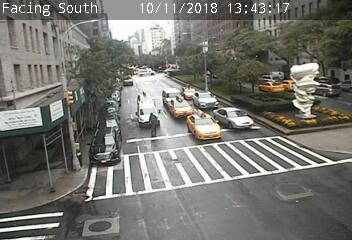car: (89, 127, 120, 166), (187, 113, 221, 141), (213, 107, 253, 130), (137, 101, 160, 128), (168, 99, 195, 118), (309, 82, 340, 97), (193, 91, 218, 109), (163, 88, 185, 108), (258, 81, 285, 93), (137, 93, 154, 109), (279, 80, 301, 91), (180, 86, 197, 100)
